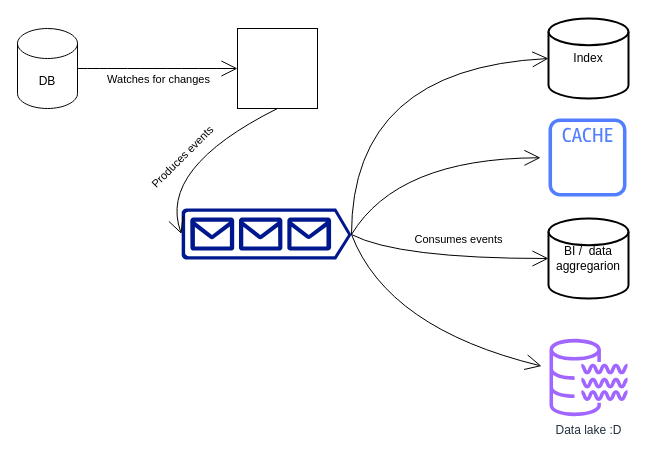
Image size: 647x454. Some labels were removed from this diagram. The shapes that lost their labels are listed below. From the top down, each one's centre as x and y in pixels, then its label:
the point at 277,68: CDC
the point at 266,233: Stream of events
